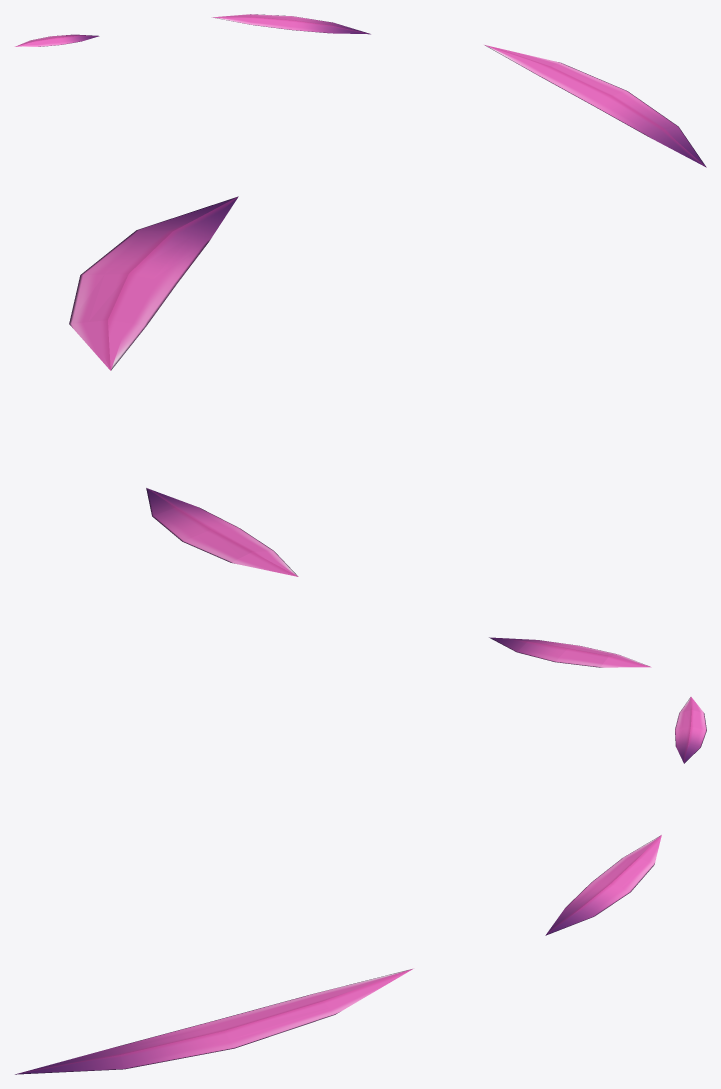
File: senbon_arco_a.fbx
3 renders of one model, top to bottom at view 1: azimuth 30°, elevation 25°; view 2: azimuth 150°, elevation 25°; view 3: azimuth 270°, elevation 25°, orthographic. The views are drawn at different scales.
Visible parts, largest first — view 1: senbon_arco_a; view 2: senbon_arco_a; view 3: senbon_arco_a.
Part boxes in pixels (x1,y1,x2,y2): senbon_arco_a: [15, 14, 706, 167]; senbon_arco_a: [69, 196, 651, 667]; senbon_arco_a: [15, 697, 706, 1074].
Bounding box in the file's own units: 3.23 × 0.3538 × 3.02.
1 material, 1 textured.
